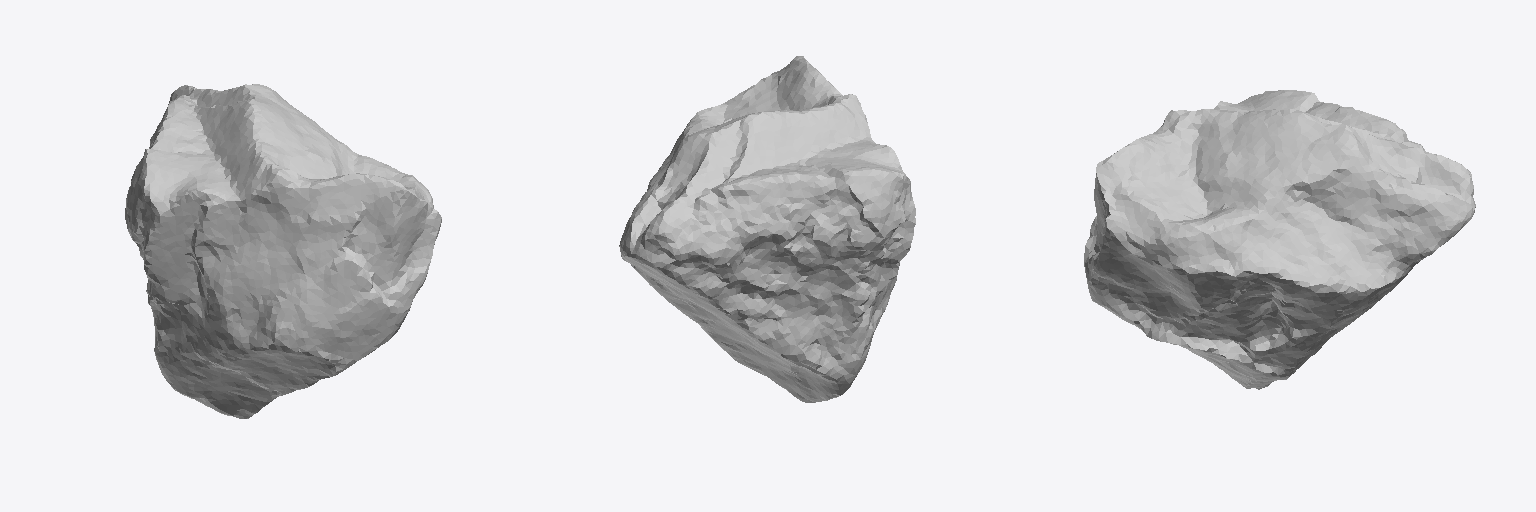
File: Aset_nature_rock_M_wdbncbl_00_LOD0.obj
3 views of the same model, side by side, from view 1: azimuth 30°, elevation 25°; view 2: azimuth 150°, elevation 25°; view 3: azimuth 270°, elevation 25° (orthographic).
Parts seen in each view (by area): view 1: Aset_nature_rock_M_wdbncbl_00_LOD0; view 2: Aset_nature_rock_M_wdbncbl_00_LOD0; view 3: Aset_nature_rock_M_wdbncbl_00_LOD0.
Part boxes in pixels (left/top/right/bottom): Aset_nature_rock_M_wdbncbl_00_LOD0: left=125, top=84, right=441, bottom=418; Aset_nature_rock_M_wdbncbl_00_LOD0: left=619, top=56, right=915, bottom=402; Aset_nature_rock_M_wdbncbl_00_LOD0: left=1084, top=90, right=1475, bottom=389.
Size of the model in its own units: 11.16 by 12.11 by 14.64.